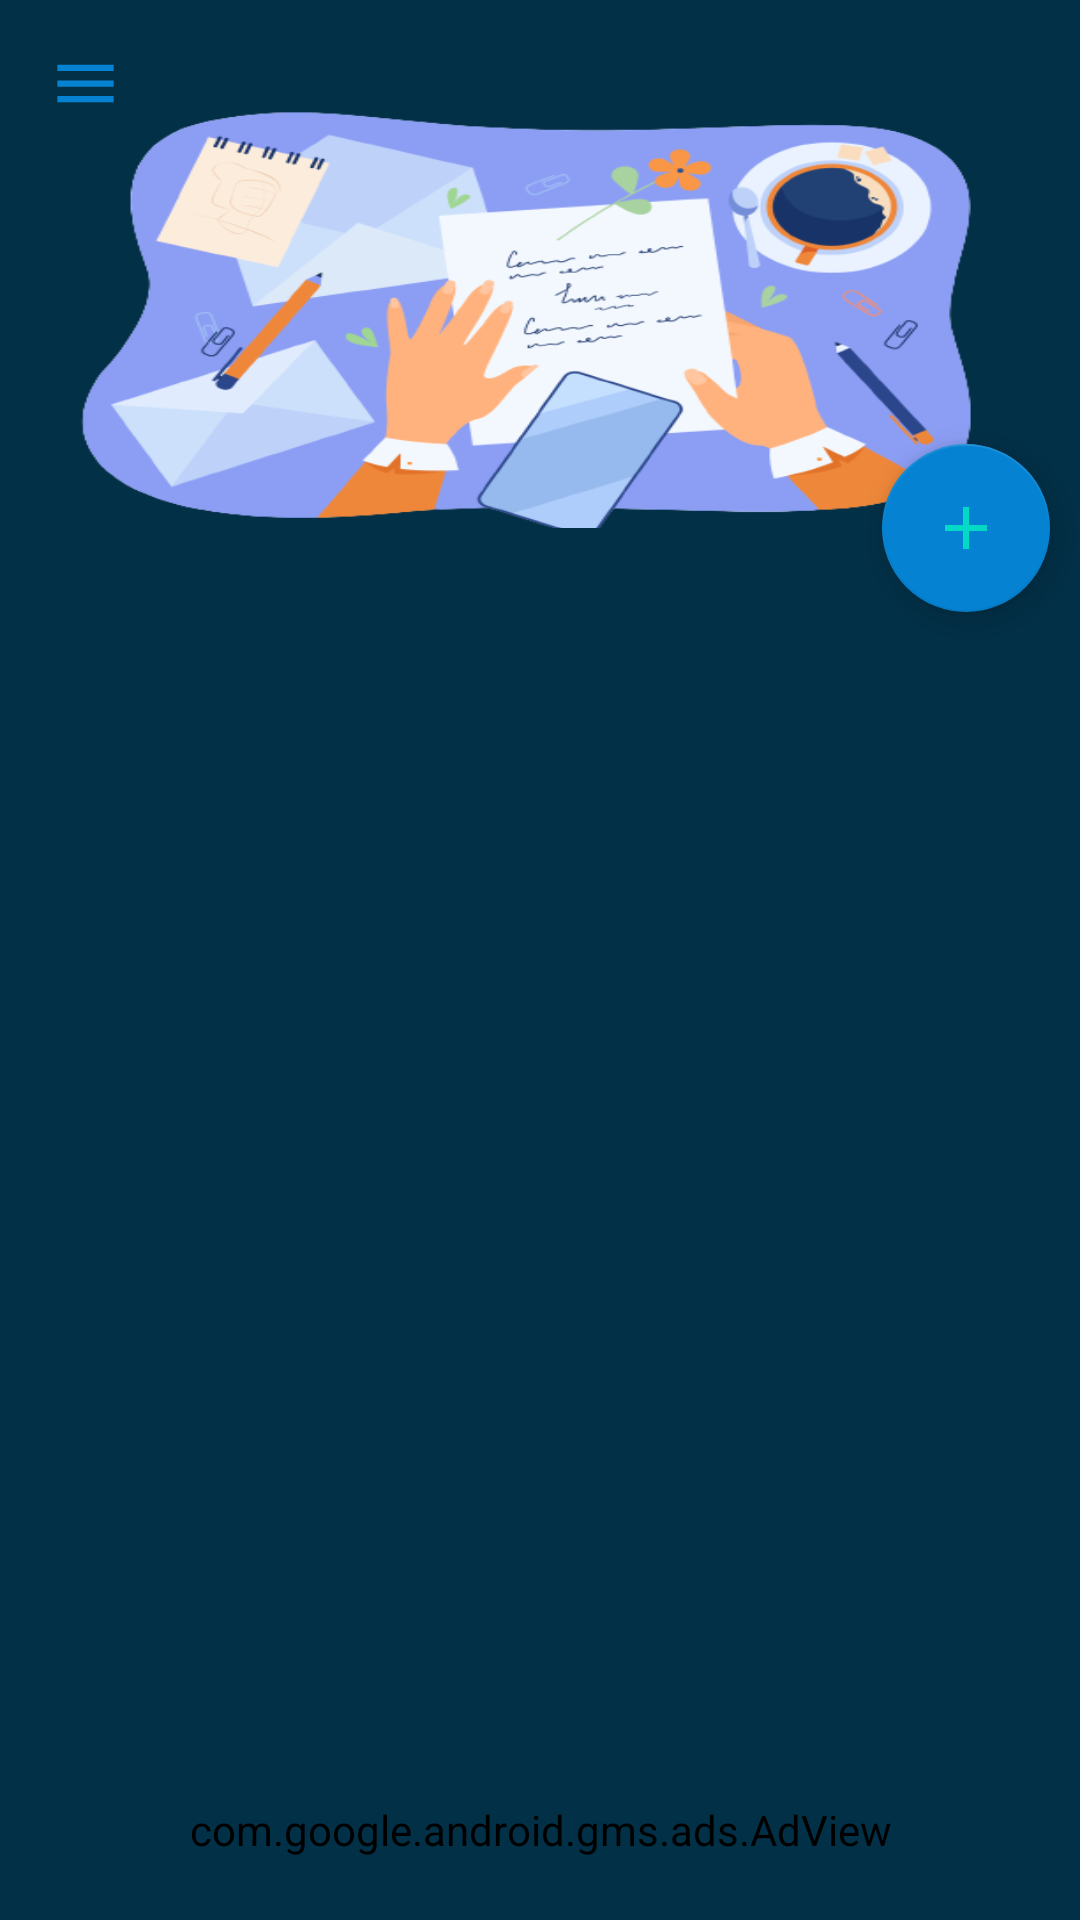

Screen size 1080*1920. Icon name, then its center in pixels as (x=x, y=y):
add: (x=966, y=528)
